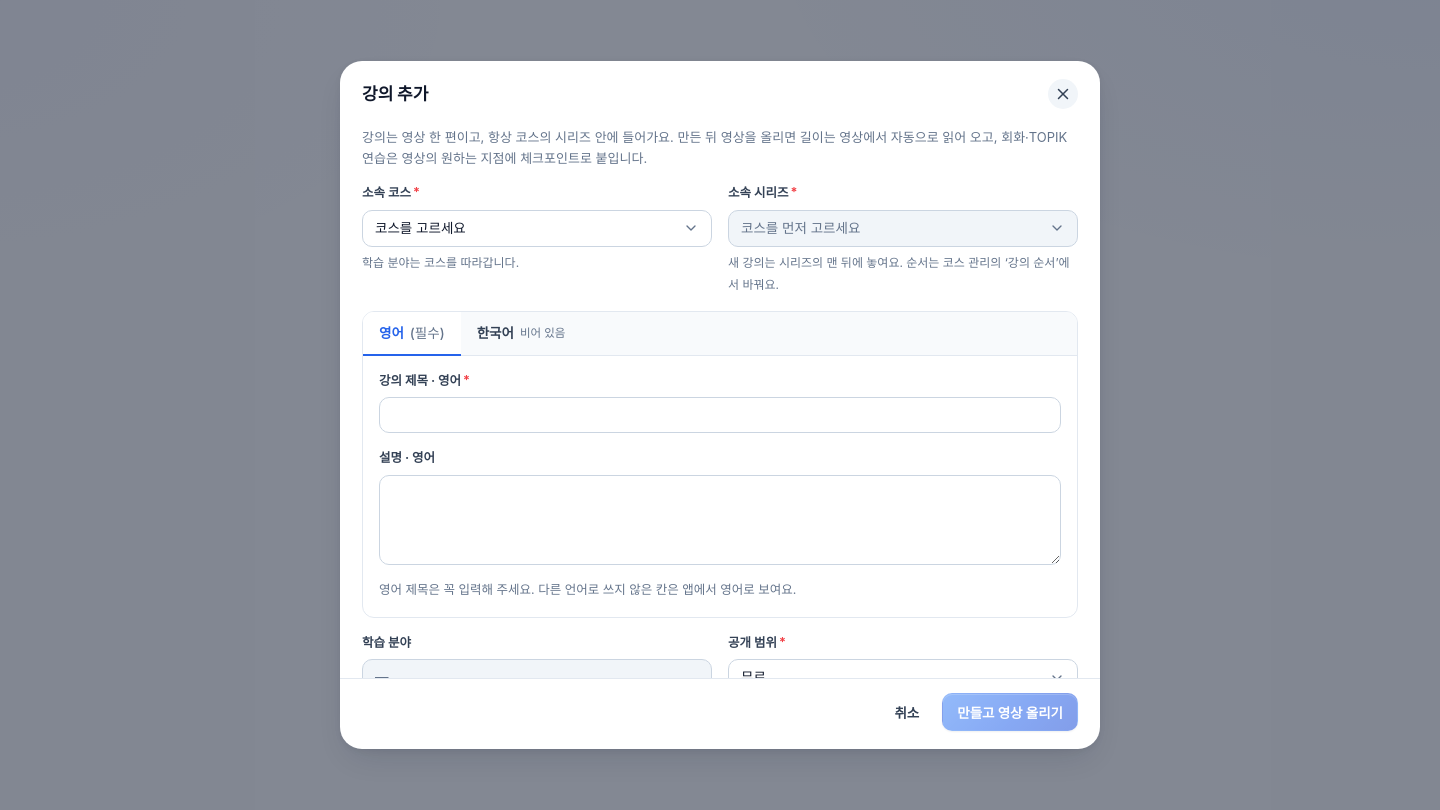
Test: LectureFormModal › offers no '(코스 없음)' option
The width and height of the screenshot is (1440, 810).
Step 1. Click the button named "소속 코스" → (420, 228), box [362, 210, 712, 247]
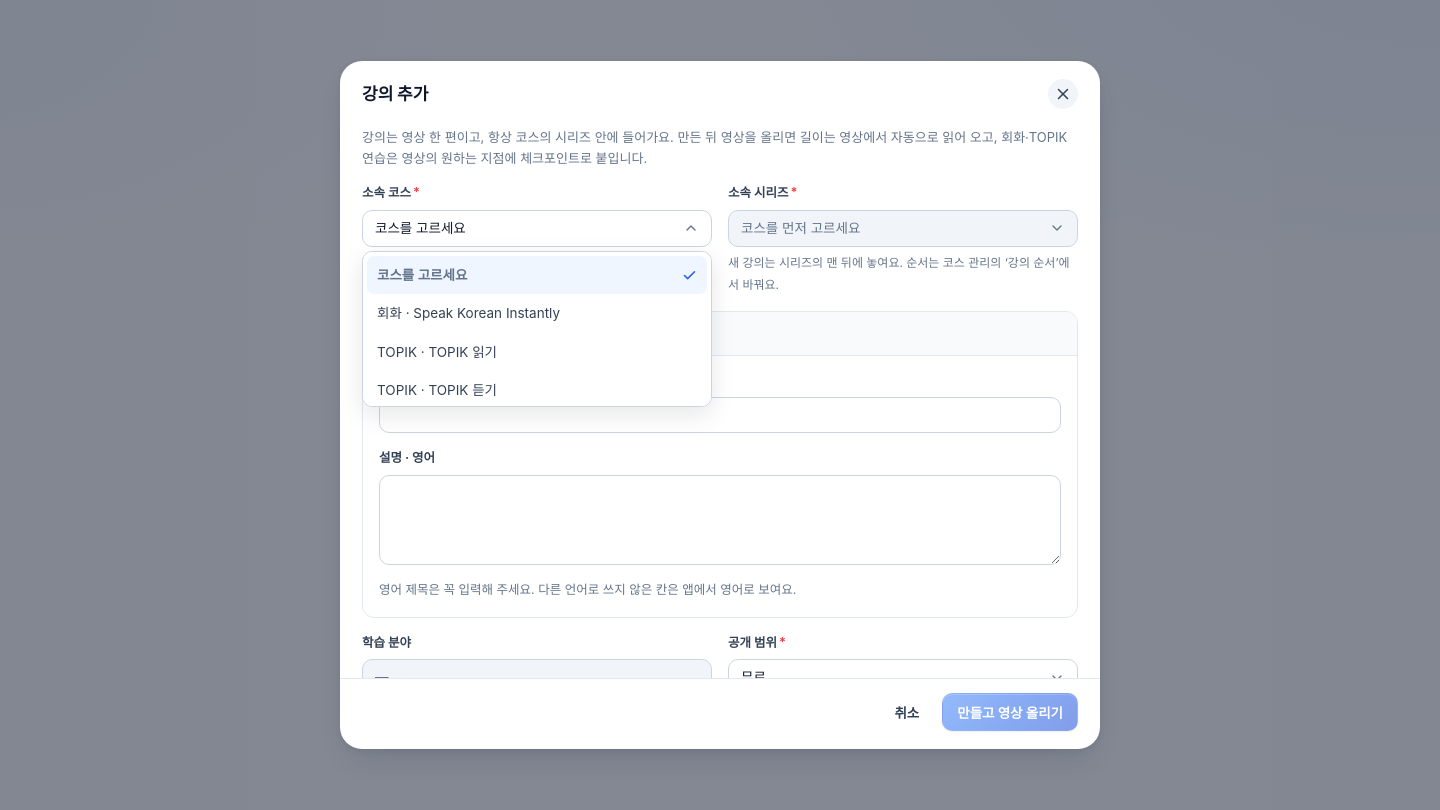
Check: the option "TOPIK · TOPIK 읽기" is shown, box [377, 344, 497, 360]
